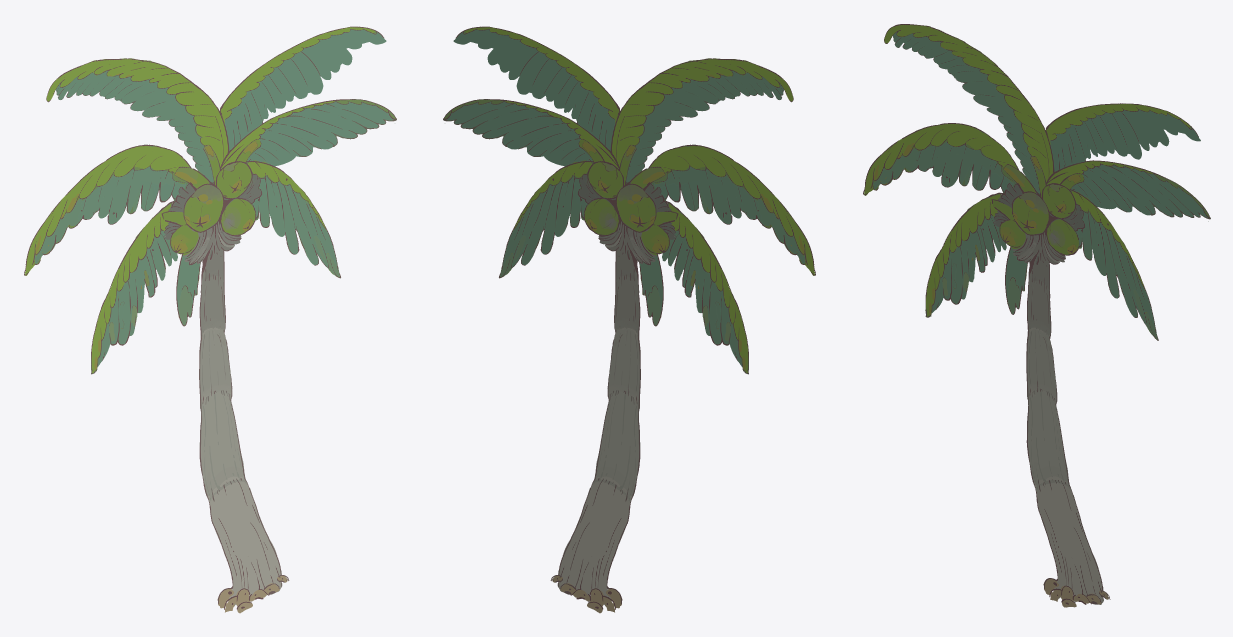
Rendered from Mesh_Adventure_SandBeach_Tree_01.fbx.
The picture shows the model from 3 angles, left to right: view 1: azimuth 30°, elevation 25°; view 2: azimuth 150°, elevation 25°; view 3: azimuth 330°, elevation 25°; orthographic projection. The views are drawn at different scales.
Parts seen in each view (by area): view 1: Mesh_Adventure_SandBeach_Tree_01; view 2: Mesh_Adventure_SandBeach_Tree_01; view 3: Mesh_Adventure_SandBeach_Tree_01.
Boxes of the visible parts, left/top/right/bottom form: Mesh_Adventure_SandBeach_Tree_01: left=24, top=26, right=396, bottom=613; Mesh_Adventure_SandBeach_Tree_01: left=443, top=26, right=815, bottom=613; Mesh_Adventure_SandBeach_Tree_01: left=863, top=24, right=1210, bottom=607.
Bounding box in the file's own units: 69.57 × 100 × 0.
